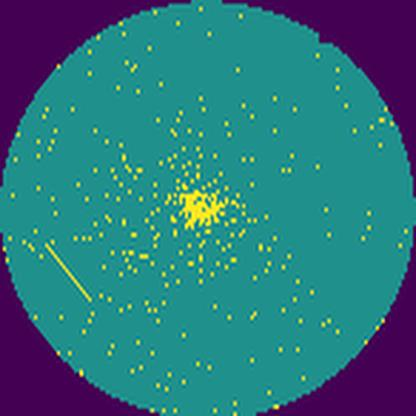Center: (176, 185, 236, 236)
